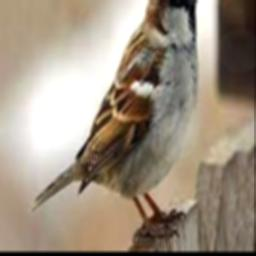Sparrow: (32, 0, 205, 241)
